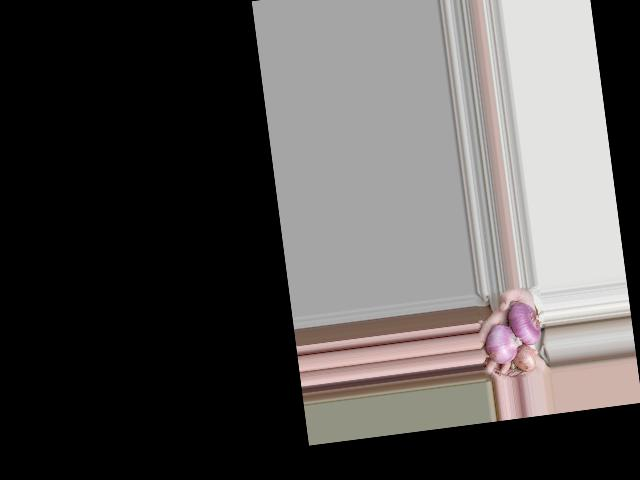onion: (509, 300, 540, 345)
